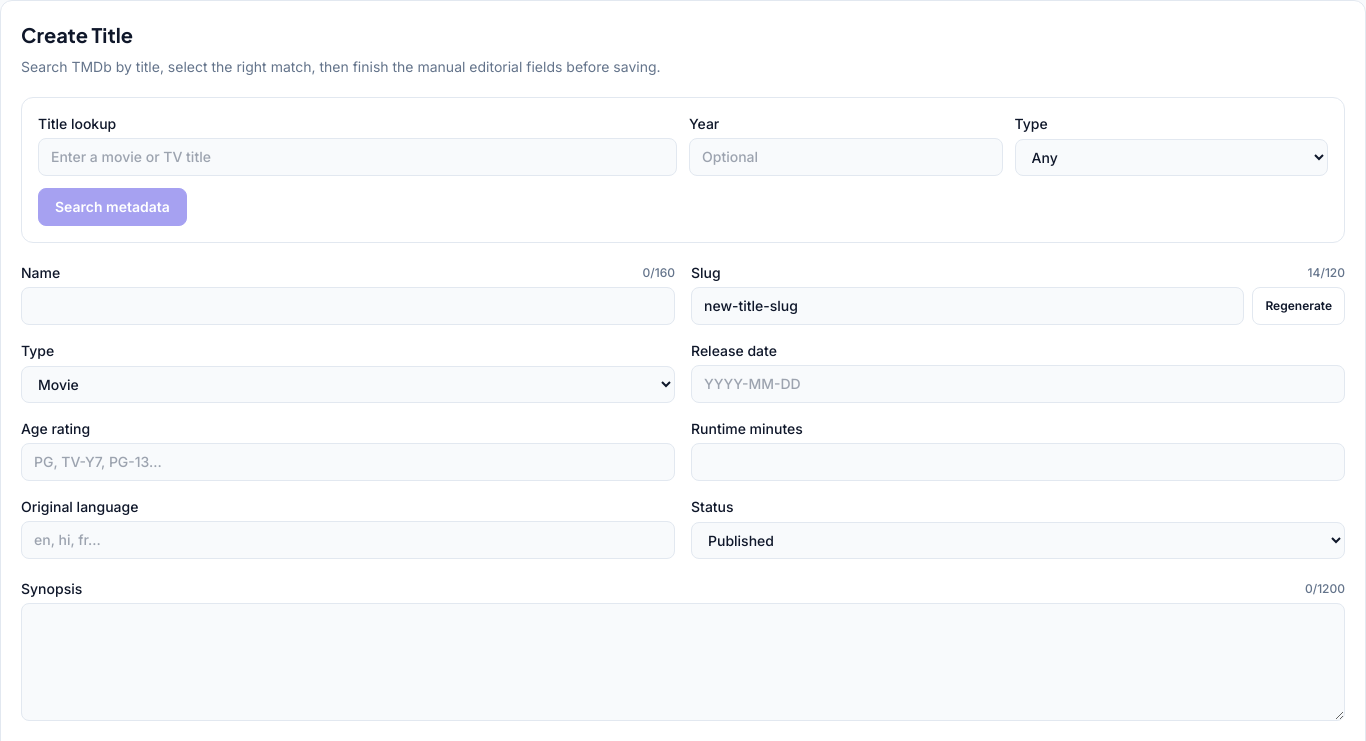
Test case: AdminTitleForm › shows a top-level warning when metadata comes from a non-English title
Step 1. Type "Jab Khuli Kitaab" into the field labelled "Title lookup" → (358, 157), box [38, 138, 677, 176]
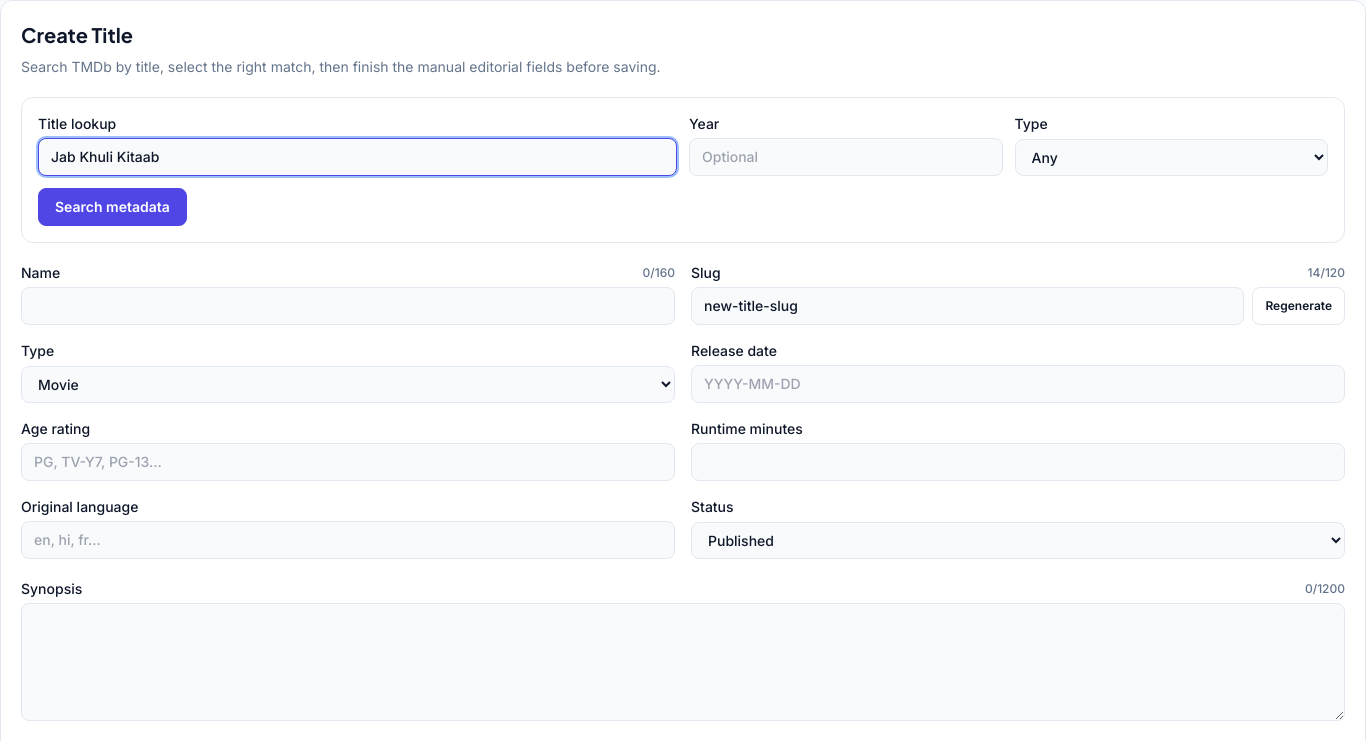
Step 2. Click the button "Search metadata" → (112, 207), box [38, 188, 187, 226]
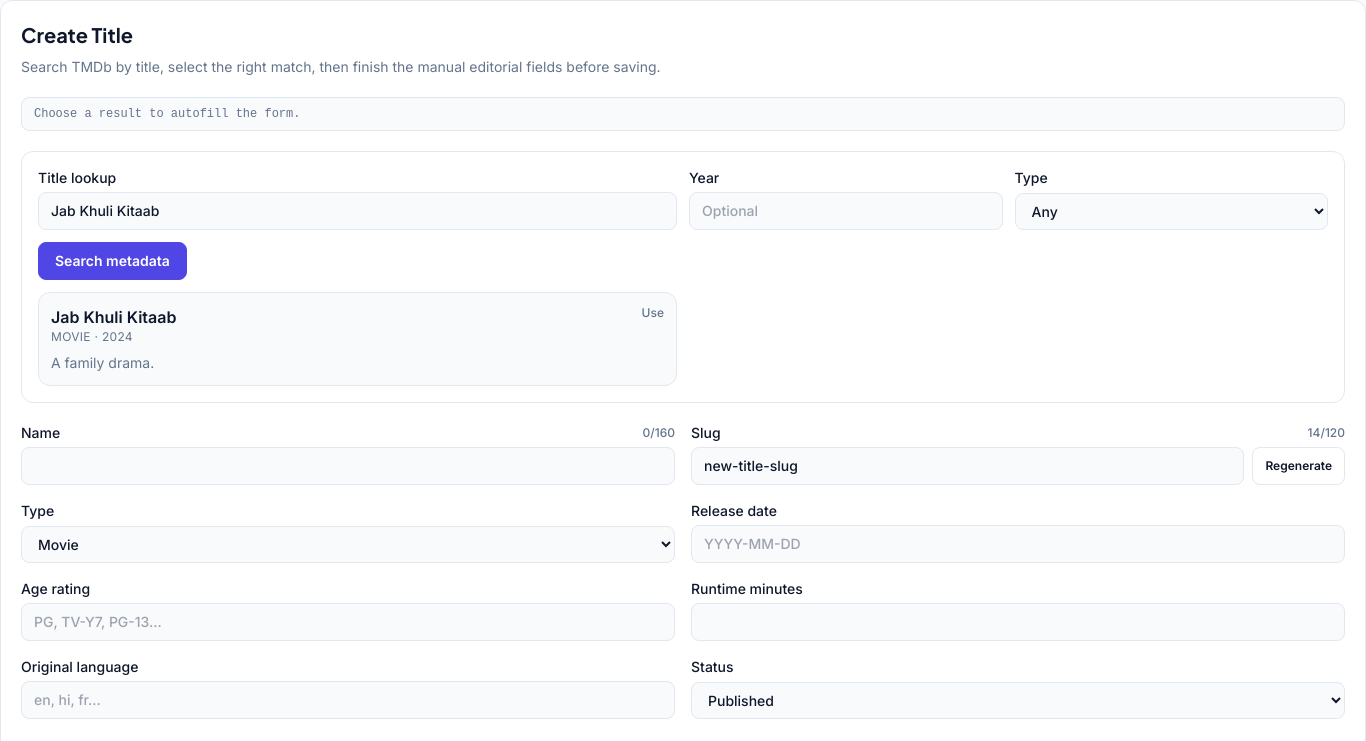
Step 3. Click the button "Jab Khuli Kitaab Movie · 2024 Use A family drama." → (114, 317), box [38, 292, 677, 386]
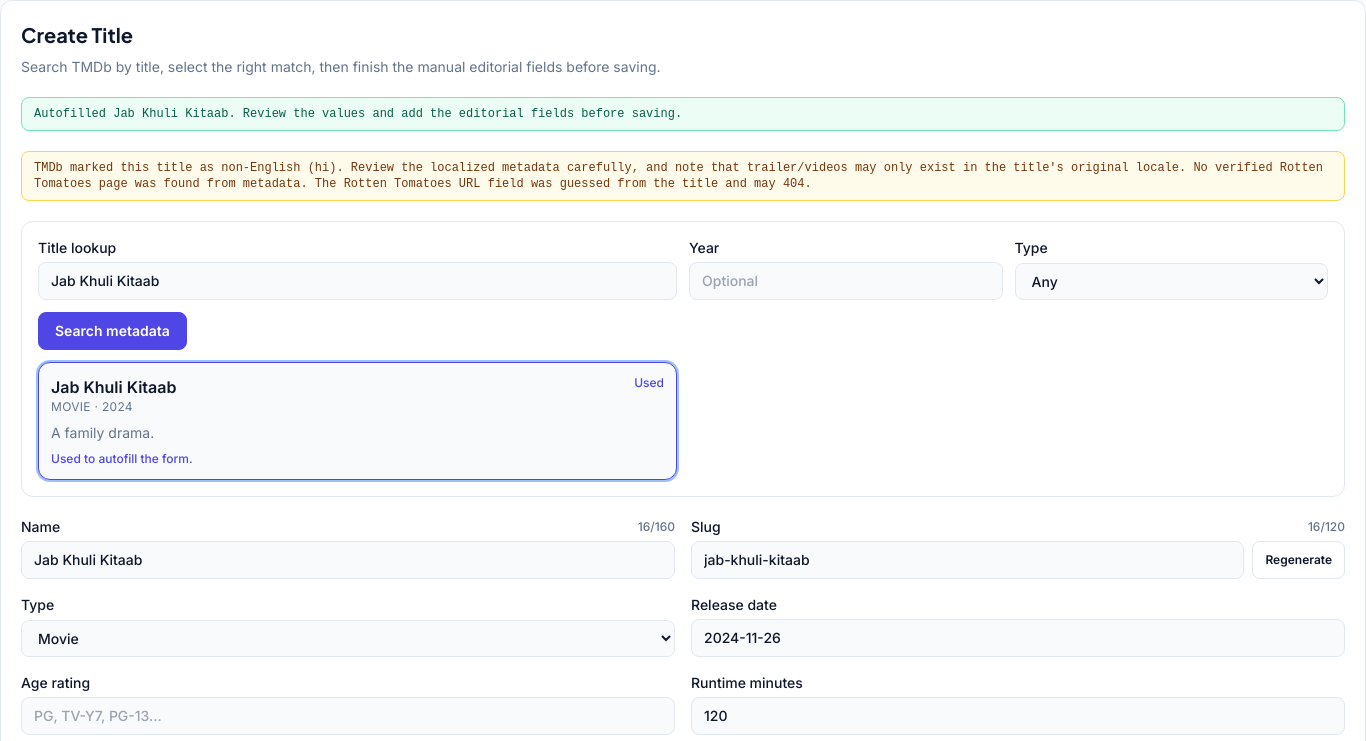
Check: the 2nd message shows "TMDb marked this title as non-English (hi). Review the localized metadata carefully, and note that trailer/videos may only exist in the title's original locale.", box [34, 161, 1323, 191]
